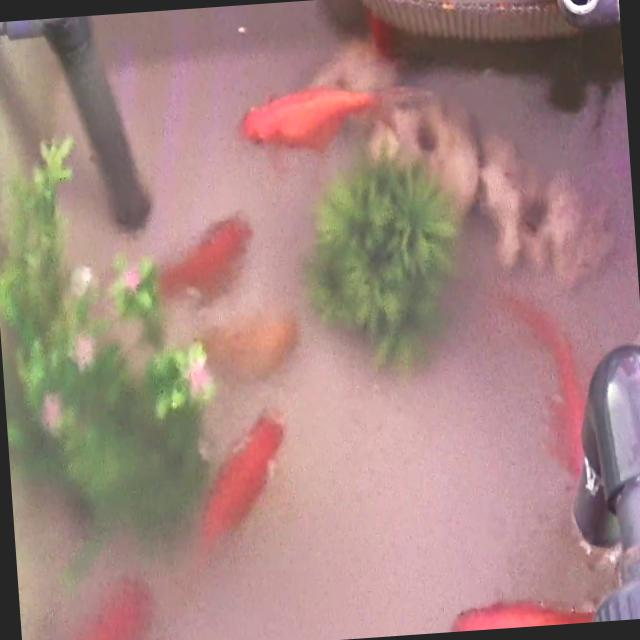fish: (186, 409, 294, 561), (502, 289, 588, 452), (152, 210, 260, 308), (17, 570, 156, 640), (239, 82, 354, 158), (196, 309, 300, 385), (448, 594, 594, 632)
